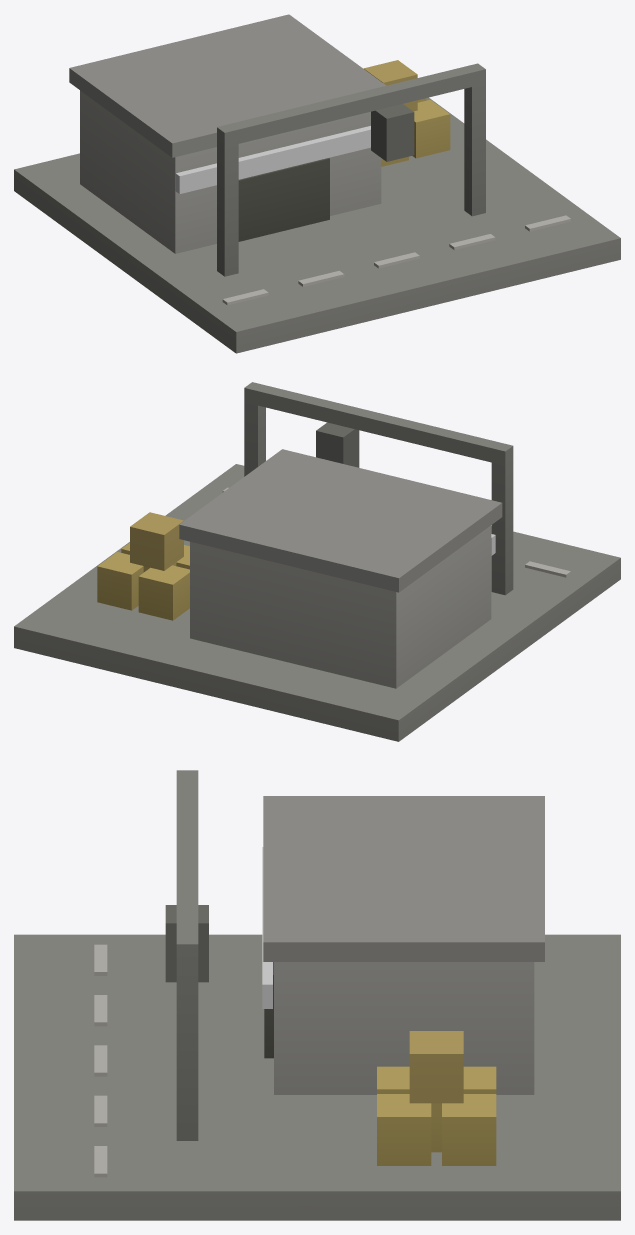
Rendered from m_depot_3bc3726f.glb.
3 renders of one model, top to bottom at view 1: azimuth 30°, elevation 25°; view 2: azimuth 150°, elevation 25°; view 3: azimuth 270°, elevation 25°, orthographic. The views are drawn at different scales.
Parts seen in each view (by area): view 1: mesh; view 2: mesh; view 3: mesh.
Part boxes in pixels (left/top/right/bottom): mesh: left=14, top=14, right=620, bottom=353; mesh: left=14, top=382, right=620, bottom=741; mesh: left=14, top=770, right=620, bottom=1220.
Bounding box in the file's own units: 56 × 23 × 56.
